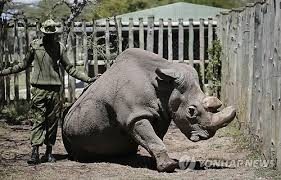Rhinoceros: (59, 37, 240, 172)
